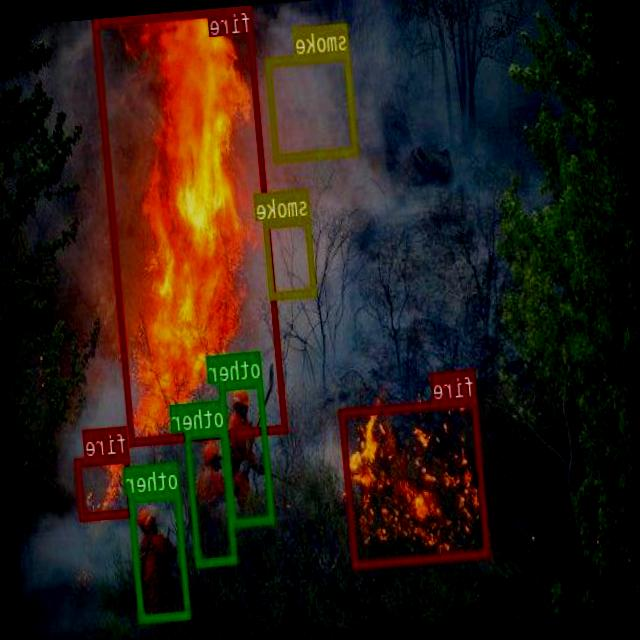fire: (92, 5, 288, 443), (340, 396, 490, 567), (75, 452, 134, 519)
smoke: (266, 50, 359, 161), (264, 215, 318, 298)
